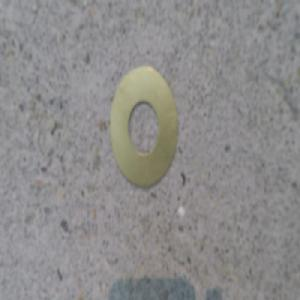Washer: (107, 65, 180, 193)
